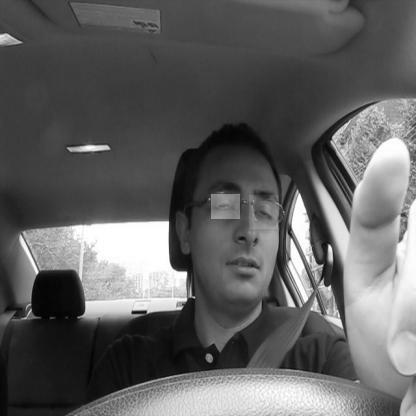seatbelt: (173, 118, 338, 403)
